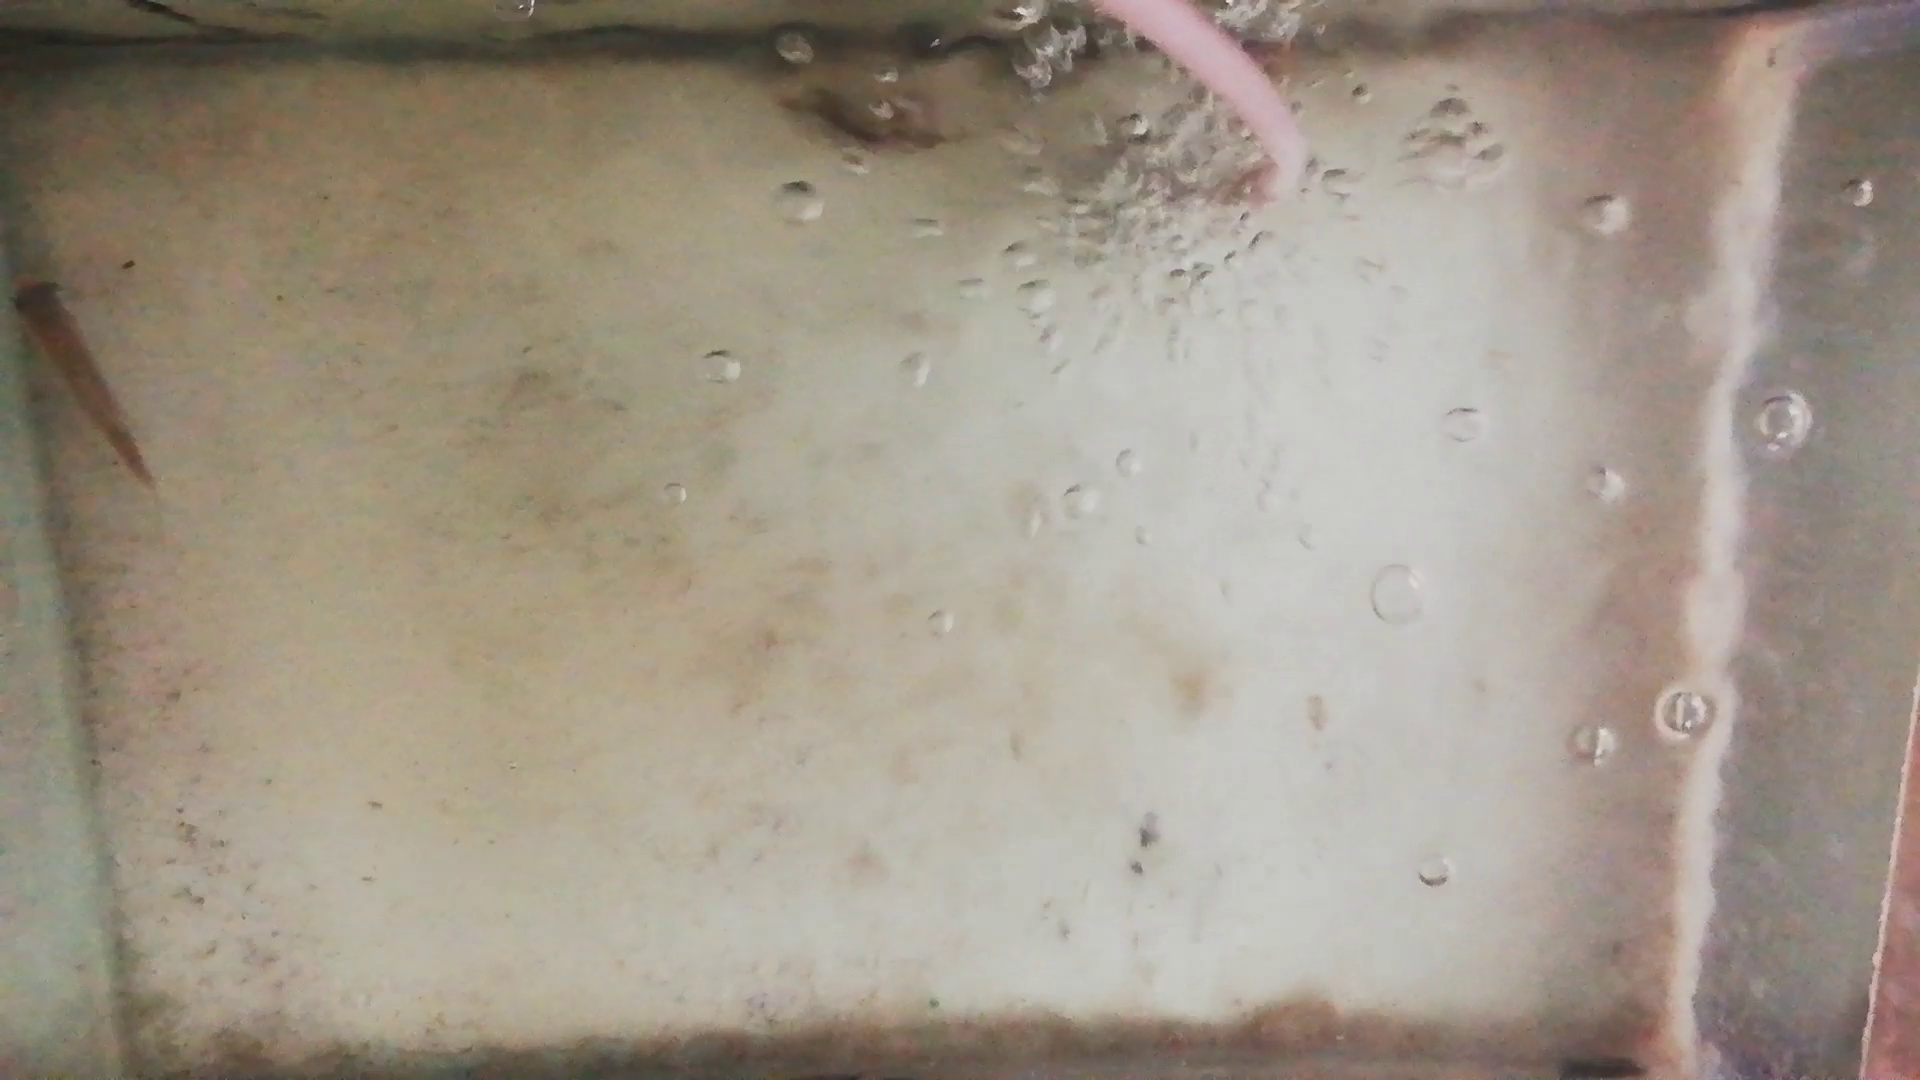fish: (7, 273, 157, 487), (777, 91, 945, 150)
